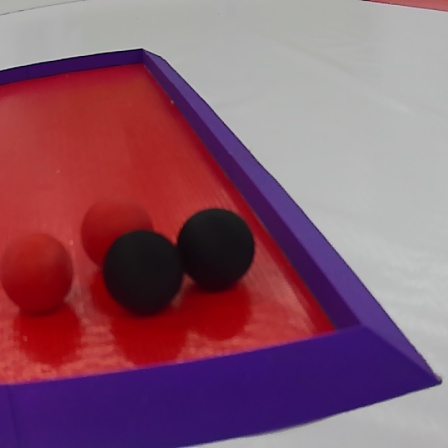black: (108, 226, 183, 321), (178, 205, 257, 290)
red: (76, 195, 162, 275), (0, 236, 74, 319)
red_aim: (3, 46, 440, 443)
